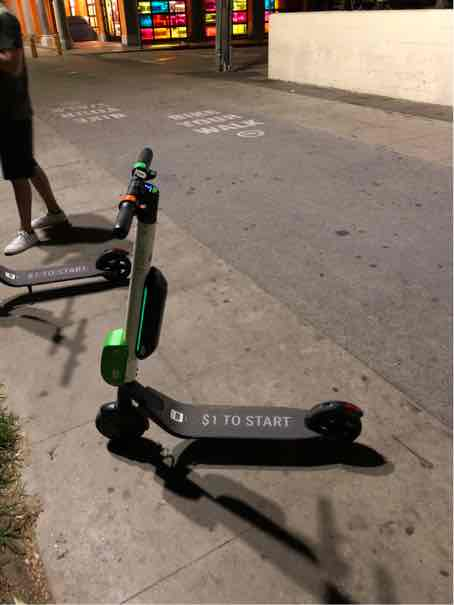scooter: (81, 135, 369, 481)
